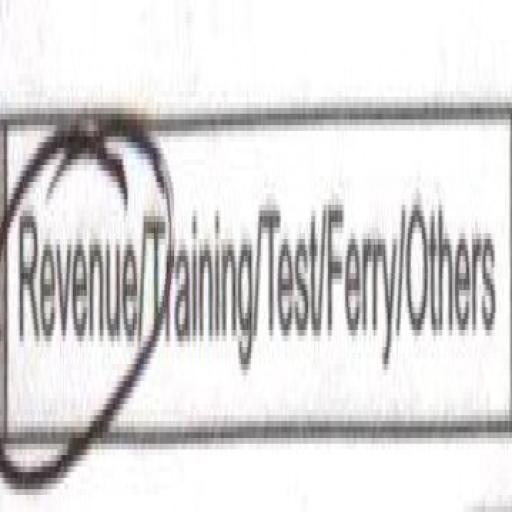check: (0, 47, 142, 512)
